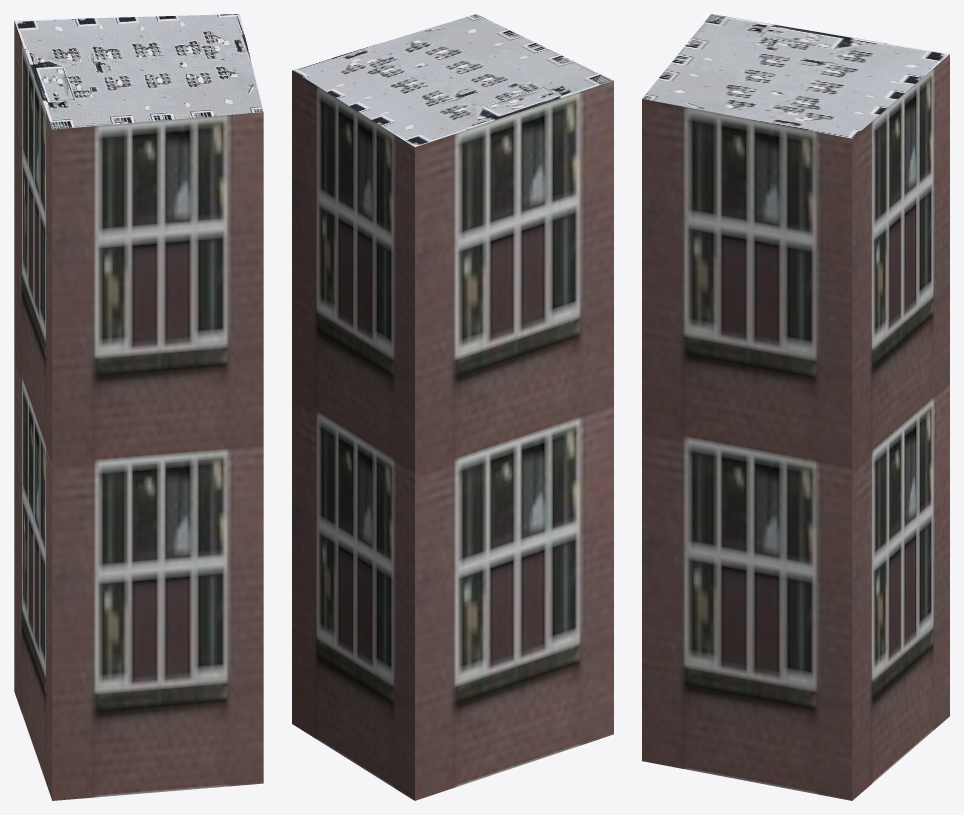
Rendered from ResTex__4099.fbx.
The picture shows the model from 3 angles, left to right: view 1: azimuth 30°, elevation 25°; view 2: azimuth 150°, elevation 25°; view 3: azimuth 270°, elevation 25°; orthographic projection. The views are drawn at different scales.
Visible parts, largest first — view 1: CityEngineMaterial_12_m, CityEngineMaterial_8_m; view 2: CityEngineMaterial_12_m, CityEngineMaterial_8_m; view 3: CityEngineMaterial_12_m, CityEngineMaterial_8_m.
Boxes of the visible parts, box(x1,y1,x2,y2) form: CityEngineMaterial_12_m: box(14, 21, 263, 800); CityEngineMaterial_8_m: box(14, 14, 263, 129); CityEngineMaterial_12_m: box(292, 70, 613, 800); CityEngineMaterial_8_m: box(292, 14, 613, 146); CityEngineMaterial_12_m: box(642, 54, 949, 800); CityEngineMaterial_8_m: box(642, 14, 949, 138).
Size of the model in its own units: 2.42 by 6 by 2.53.
Materials: 2 (2 with a texture image).
